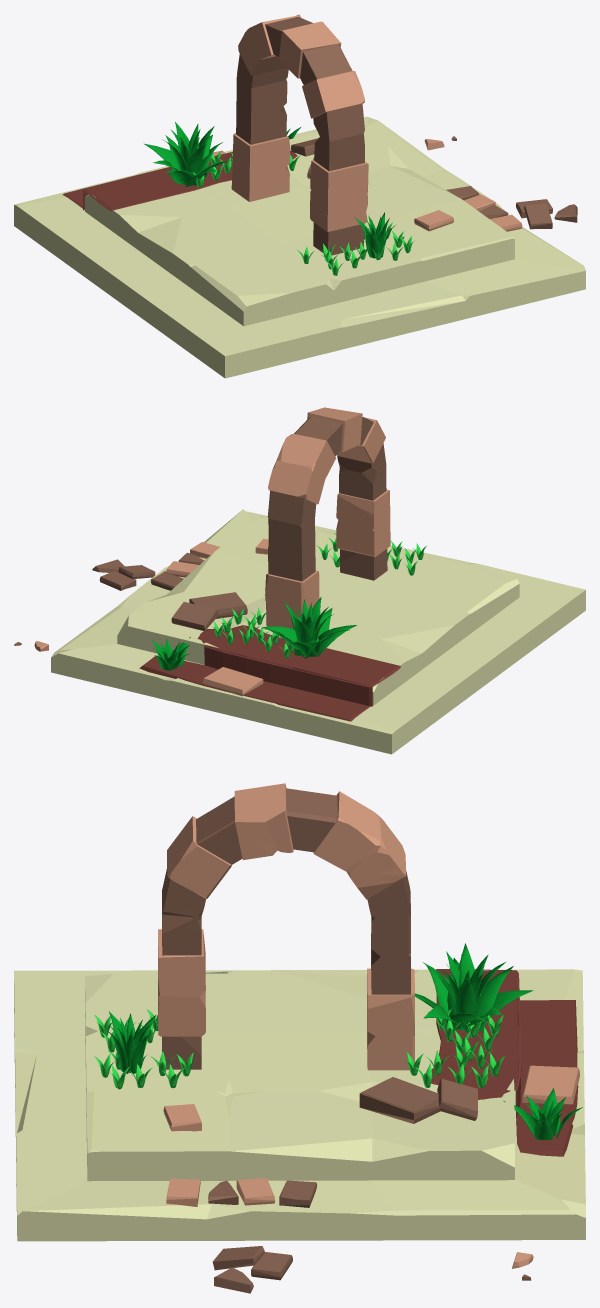
The model's file is portal.glb.
The picture shows the model from 3 angles, top to bottom: view 1: azimuth 30°, elevation 25°; view 2: azimuth 150°, elevation 25°; view 3: azimuth 270°, elevation 25°; orthographic projection. The views are drawn at different scales.
Parts seen in each view (by area): view 1: Плоскость.003, Плоскость.001, Плоскость.008, Плоскость.006, Плоскость.007, Плоскость.005, Куб.011, Куб.003; view 2: Плоскость.003, Плоскость.001, Плоскость.008, Плоскость.006, Плоскость.007, Куб.002, Куб.001, Куб, Плоскость.004, Куб.009; view 3: Плоскость.003, Плоскость.001, Плоскость.008, Плоскость.007, Плоскость.006, Куб, Куб.002, Плоскость.005, Плоскость.004, Куб.001, Куб.011, Куб.003 (+5 smaller).
Part boxes in pixels (left/top/right/bottom): Плоскость.003: left=14, top=116, right=585, bottom=378; Плоскость.001: left=231, top=14, right=368, bottom=255; Плоскость.008: left=62, top=150, right=297, bottom=211; Плоскость.006: left=144, top=122, right=232, bottom=186; Плоскость.007: left=193, top=151, right=413, bottom=275; Плоскость.005: left=354, top=212, right=396, bottom=258; Куб.011: left=524, top=203, right=552, bottom=229; Куб.003: left=414, top=210, right=453, bottom=231; Плоскость.003: left=51, top=509, right=585, bottom=754; Плоскость.001: left=265, top=407, right=390, bottom=628; Плоскость.008: left=139, top=625, right=400, bottom=721; Плоскость.006: left=261, top=596, right=356, bottom=658; Плоскость.007: left=212, top=533, right=426, bottom=658; Куб.002: left=202, top=667, right=263, bottom=696; Куб.001: left=171, top=602, right=218, bottom=631; Куб: left=189, top=592, right=247, bottom=618; Плоскость.004: left=152, top=637, right=190, bottom=670; Куб.009: left=99, top=570, right=136, bottom=590; Плоскость.003: left=14, top=969, right=585, bottom=1241; Плоскость.001: left=158, top=783, right=414, bottom=1070; Плоскость.008: left=431, top=969, right=578, bottom=1156; Плоскость.007: left=94, top=1008, right=505, bottom=1089; Плоскость.006: left=415, top=943, right=533, bottom=1032; Куб: left=359, top=1077, right=440, bottom=1123; Куб.002: left=522, top=1065, right=579, bottom=1104; Плоскость.005: left=107, top=1011, right=156, bottom=1073; Плоскость.004: left=503, top=1088, right=582, bottom=1140; Куб.001: left=437, top=1079, right=477, bottom=1120; Куб.011: left=212, top=1246, right=264, bottom=1270; Куб.003: left=163, top=1104, right=201, bottom=1131.
Size of the model in its own units: 15.13 by 7.82 by 12.47.
